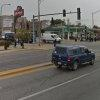Car: (43, 40, 95, 75)
